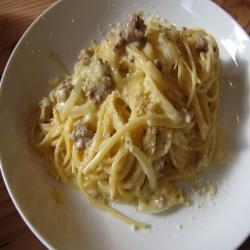carbonara: (28, 16, 230, 202)
